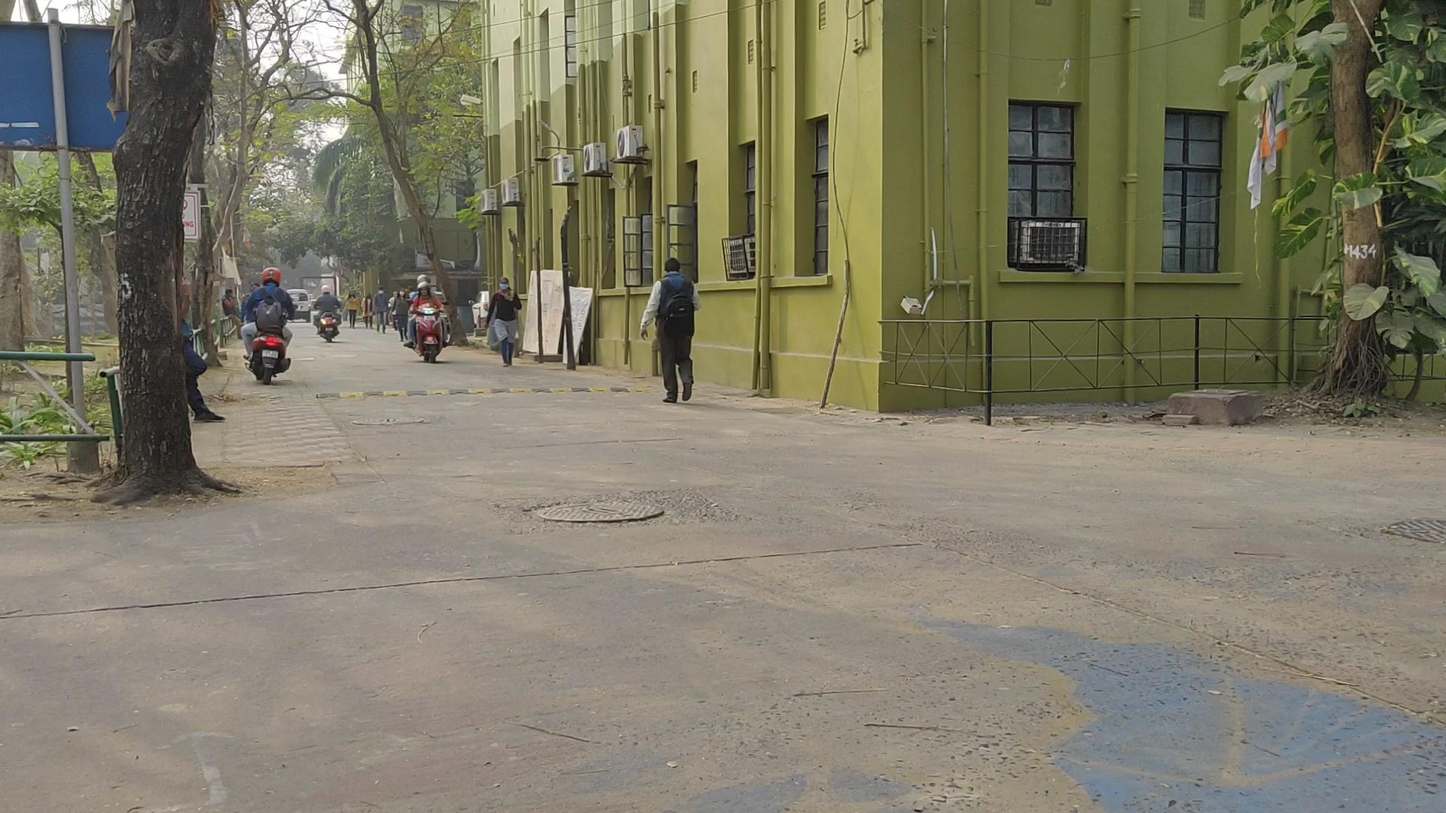bike: (240, 265, 297, 382), (407, 273, 451, 361), (313, 284, 342, 343)
van: (285, 288, 310, 323)
